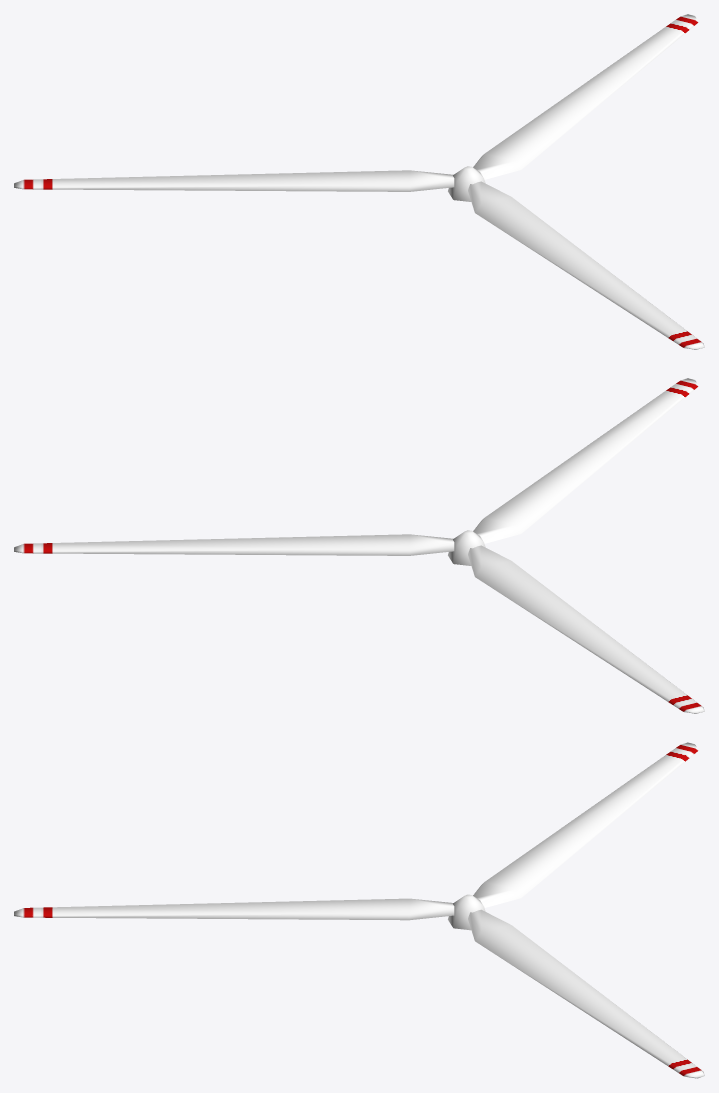
File: turbine_blades_low.obj
The picture shows the model from 3 angles, top to bottom: view 1: azimuth 30°, elevation 25°; view 2: azimuth 150°, elevation 25°; view 3: azimuth 270°, elevation 25°; orthographic projection.
Visible parts, largest first — view 1: BladeRest.001; view 2: BladeRest.001; view 3: BladeRest.001.
Boxes of the visible parts, bbox=[...] form: BladeRest.001: bbox=[14, 14, 704, 349]; BladeRest.001: bbox=[14, 378, 704, 713]; BladeRest.001: bbox=[14, 742, 704, 1078].
Bounding box in the file's own units: 68.99 × 2.46 × 60.15.
1 material, 1 textured.
